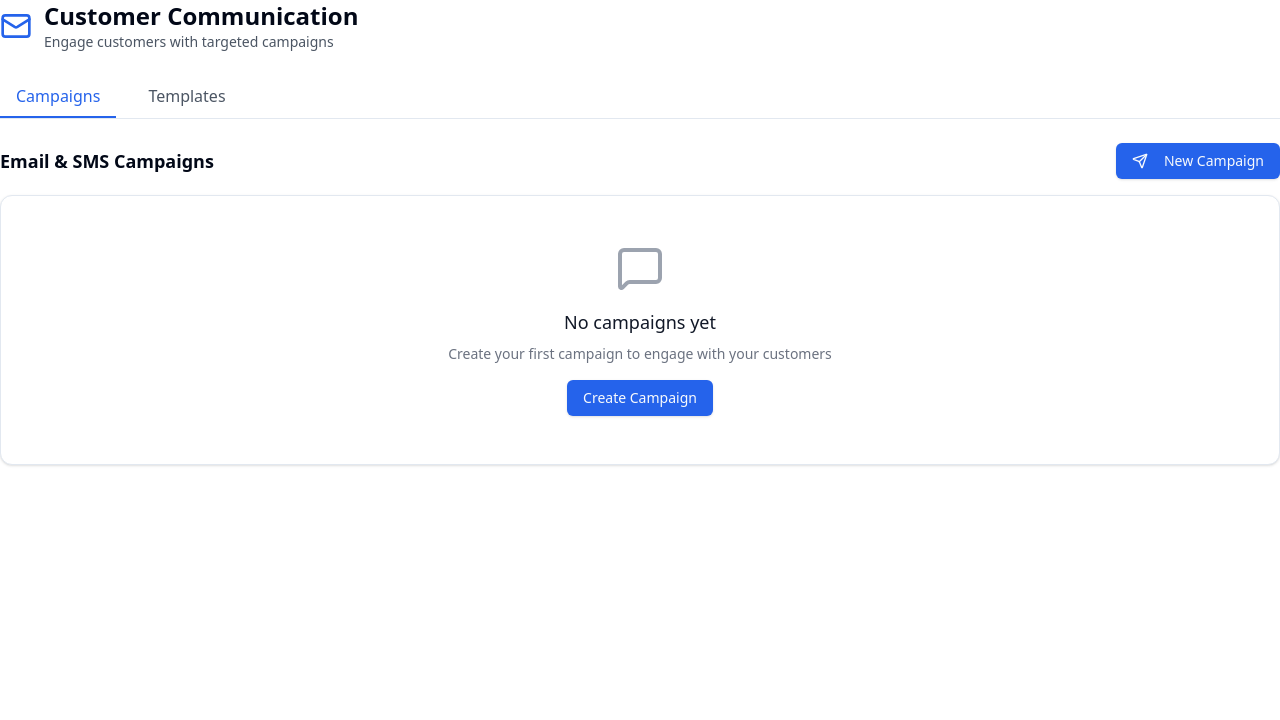
Scenario: CustomerCommunication › opens create template dialog
Step 1. Click the button with test id "templates-tab" → (187, 97), box [132,76,242,118]
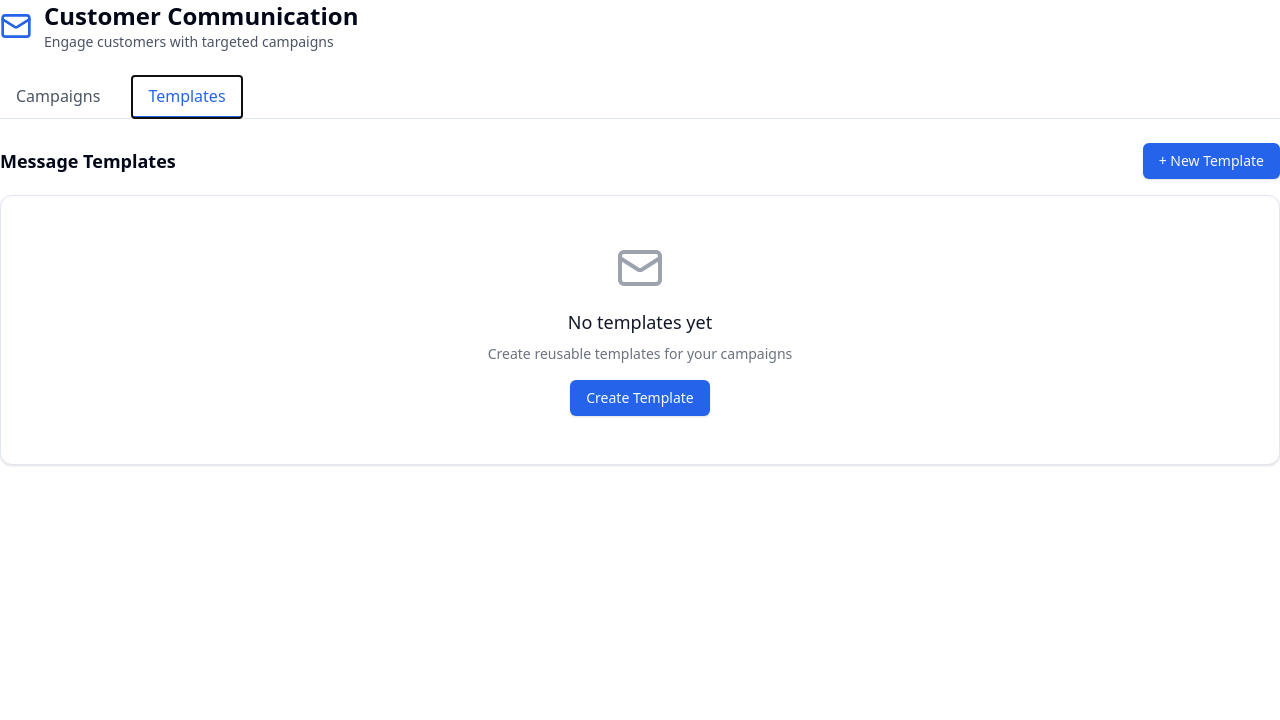
Step 2. Click the button with test id "create-template-btn" → (1211, 161), box [1143,143,1279,179]
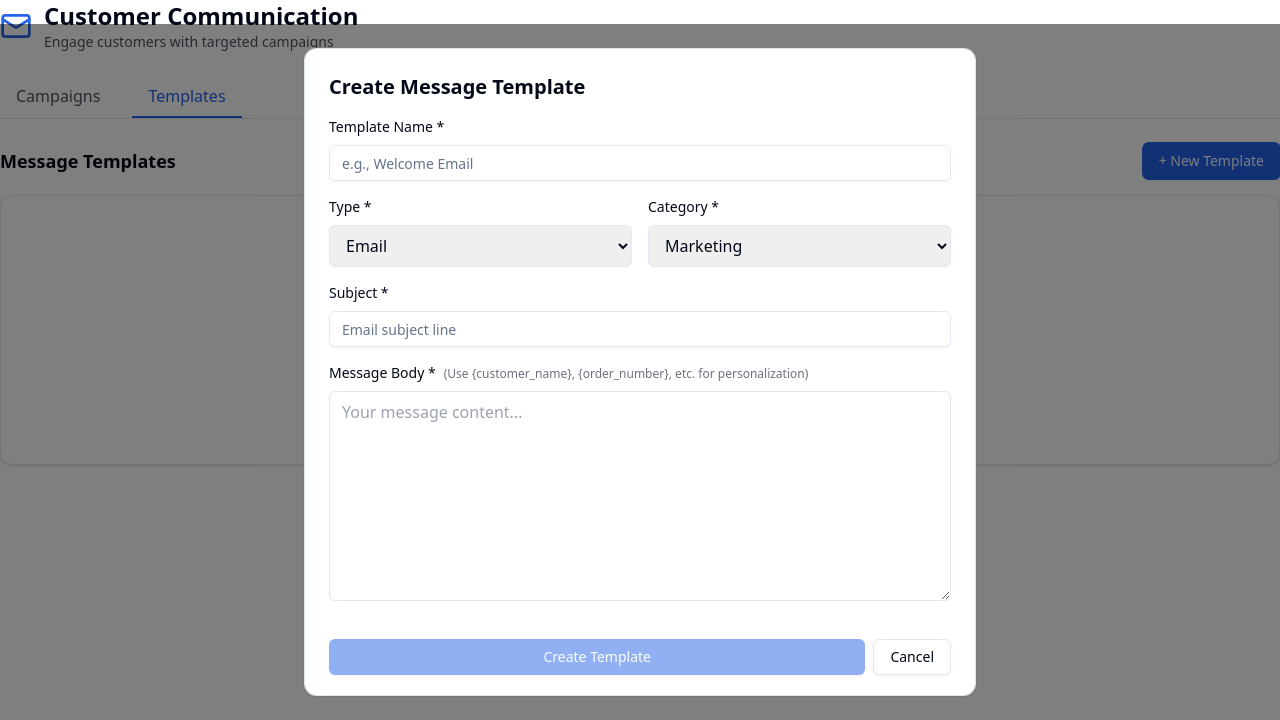
Expected: the element with test id "create-template-dialog" is shown
